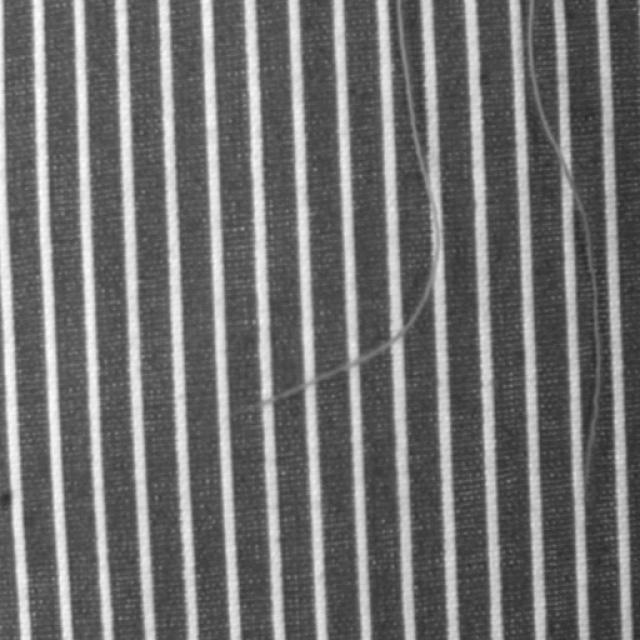Foreign-Body-Defect: (251, 1, 440, 414), (520, 0, 602, 505)
